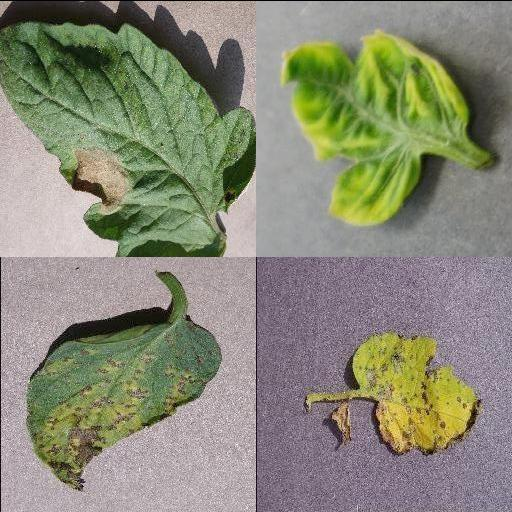Late Blight: (0, 20, 256, 256)
Septoria: (25, 313, 220, 489), (351, 333, 485, 455)
Yellow Leaf Curl Virus: (279, 27, 469, 225)
